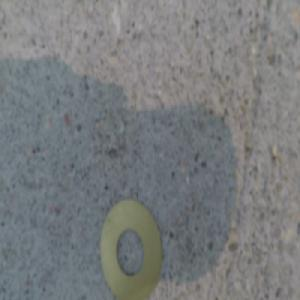Washer: (98, 197, 163, 300)
